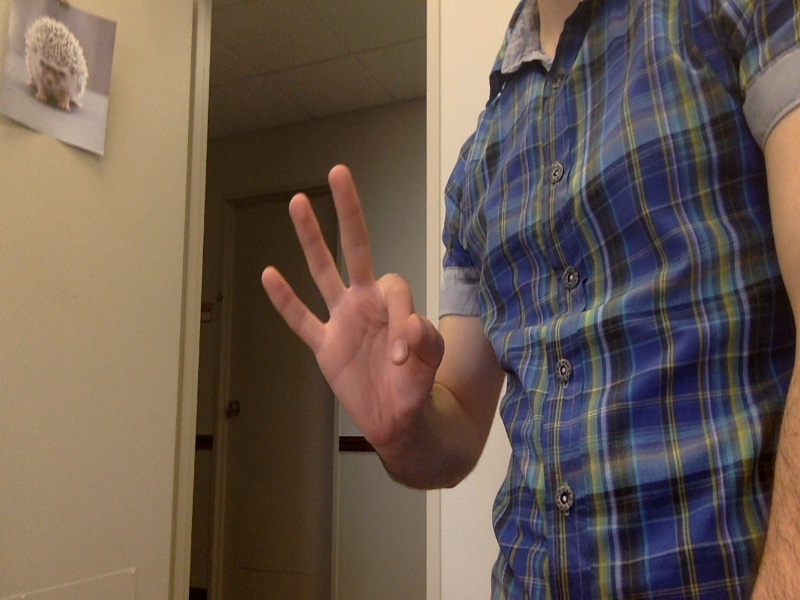3-hand: (257, 165, 441, 461)
